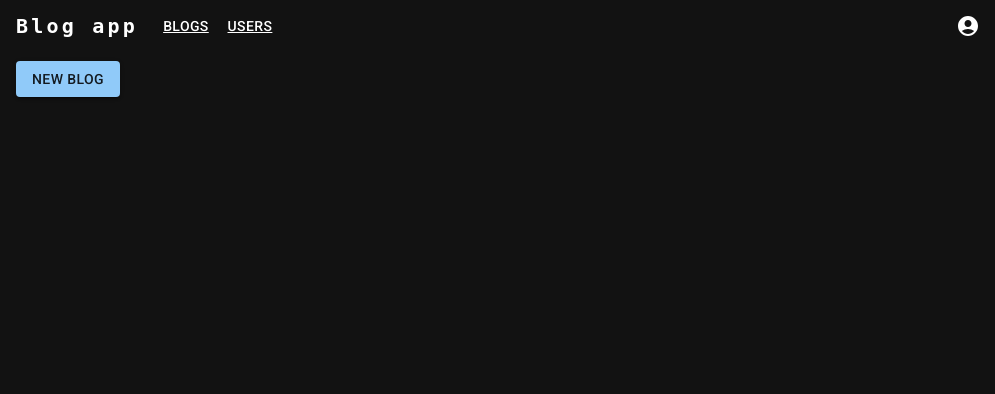
Test case: Blog app › When logged in › A blog can be created
Click the button "new blog": (68,80) [16,61,120,98]
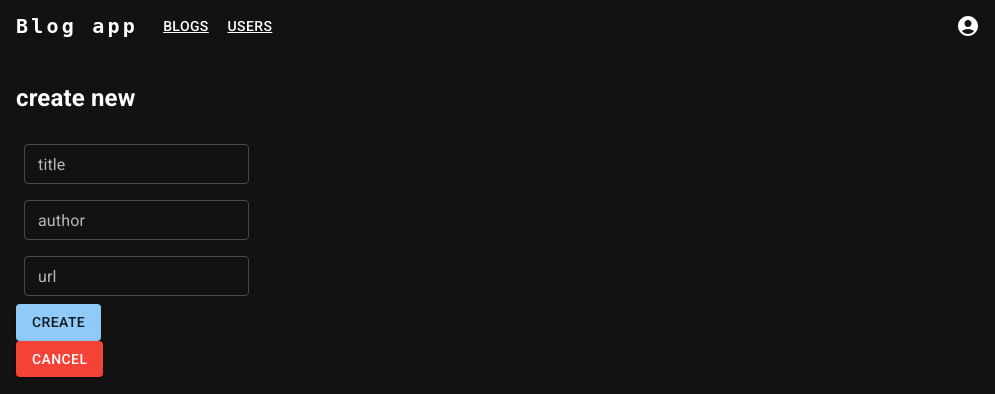
In the field with id "blog-title": (137,164) [24,144,249,184], type "a blog created by cypress"
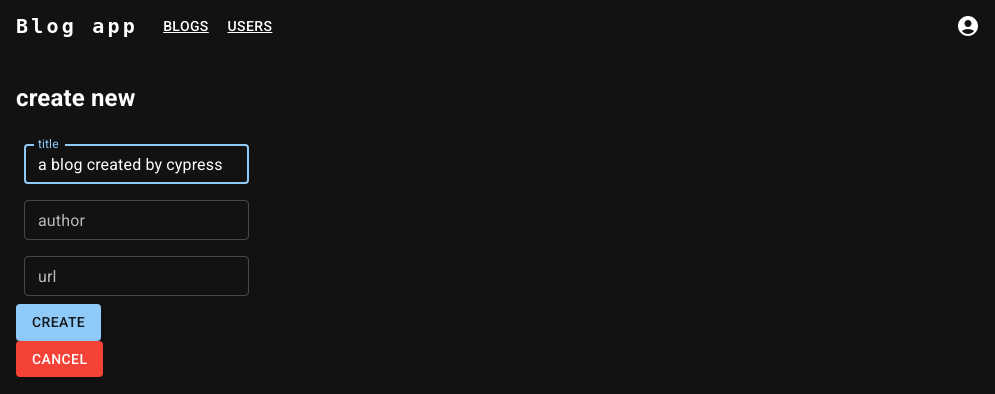
In the field with id "blog-author": (137,220) [24,200,249,240], type "Cypress"
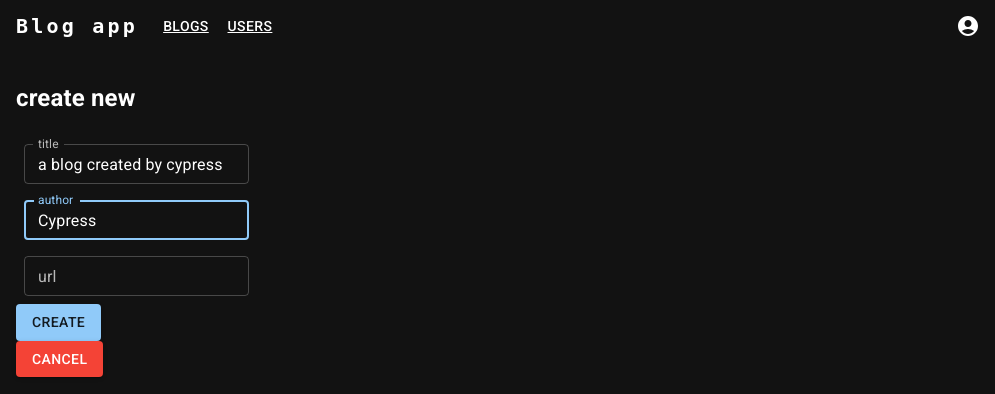
In the field with id "blog-url": (137,276) [24,256,249,296], type "/test-url/"
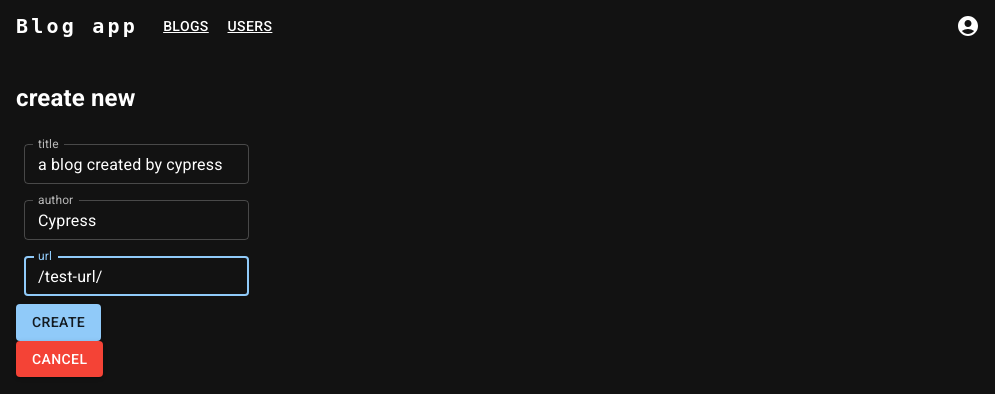
Click the button with id "create-blog-button": (59,323) [16,304,101,341]
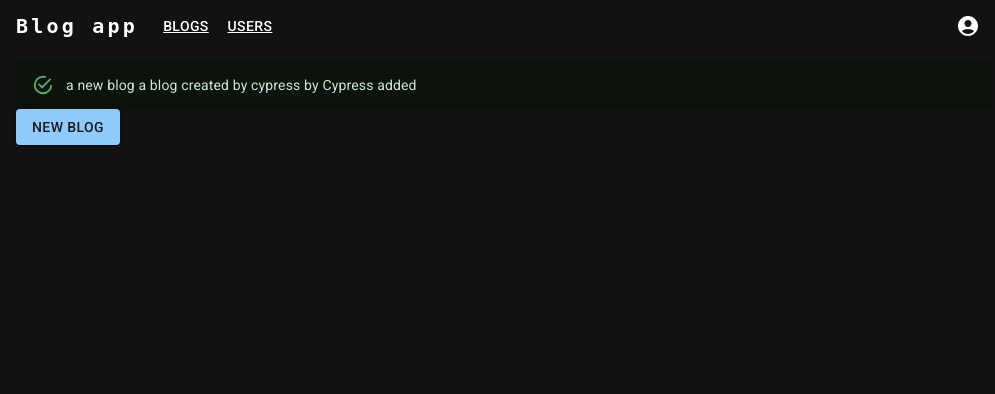
Result: the text "a blog created by cypress" is shown at [66,77,417,93]
